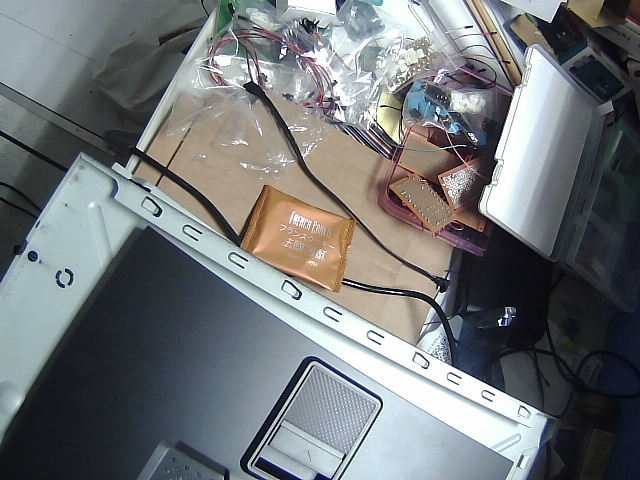frenchcookie: (238, 177, 373, 303)
